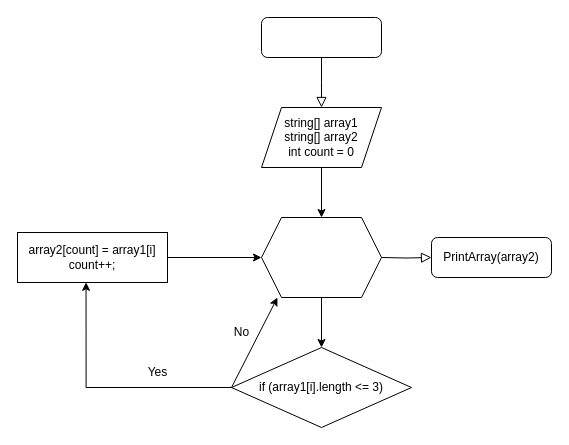
Some shapes in this 569 by 445 pixel diagram are drawn without their labels. The box of each missing label's shape, as (x1, y1, x2, y2) in pixels:
for (int i = 0; i < array1.length; i++): (260, 216, 382, 298)
Начало: (260, 16, 382, 58)
